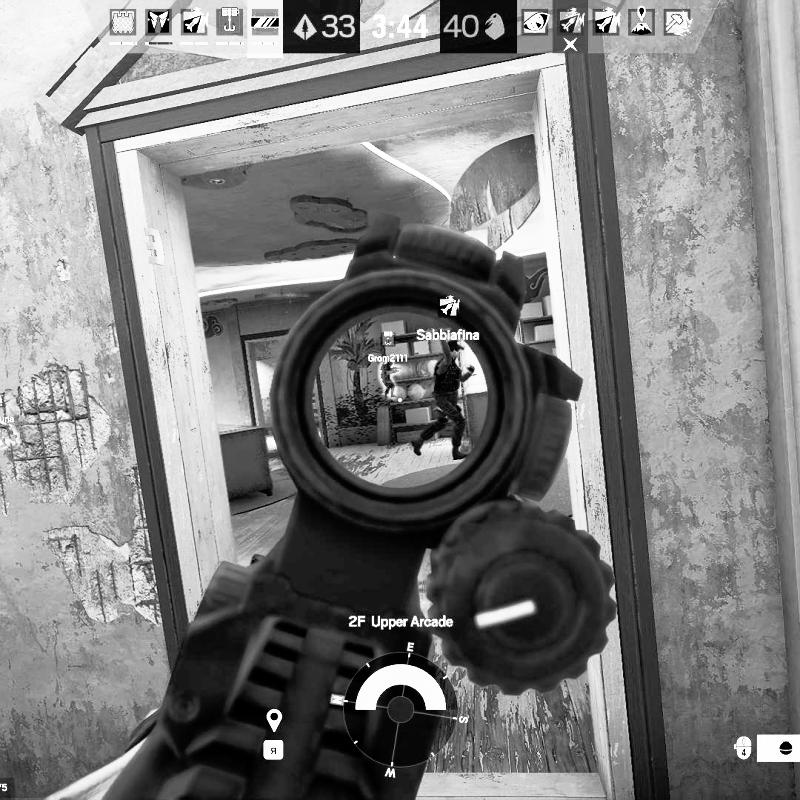Character: (411, 338, 476, 461)
Friend_label: (416, 294, 482, 342), (368, 330, 408, 363)
Head: (446, 339, 465, 360)
